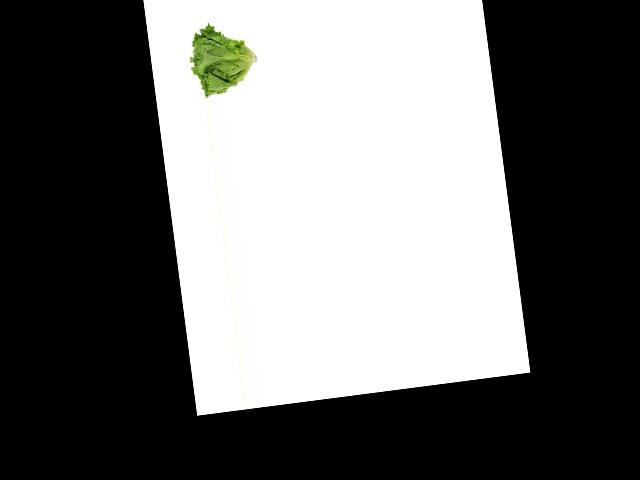lettuce: (183, 20, 263, 100)
